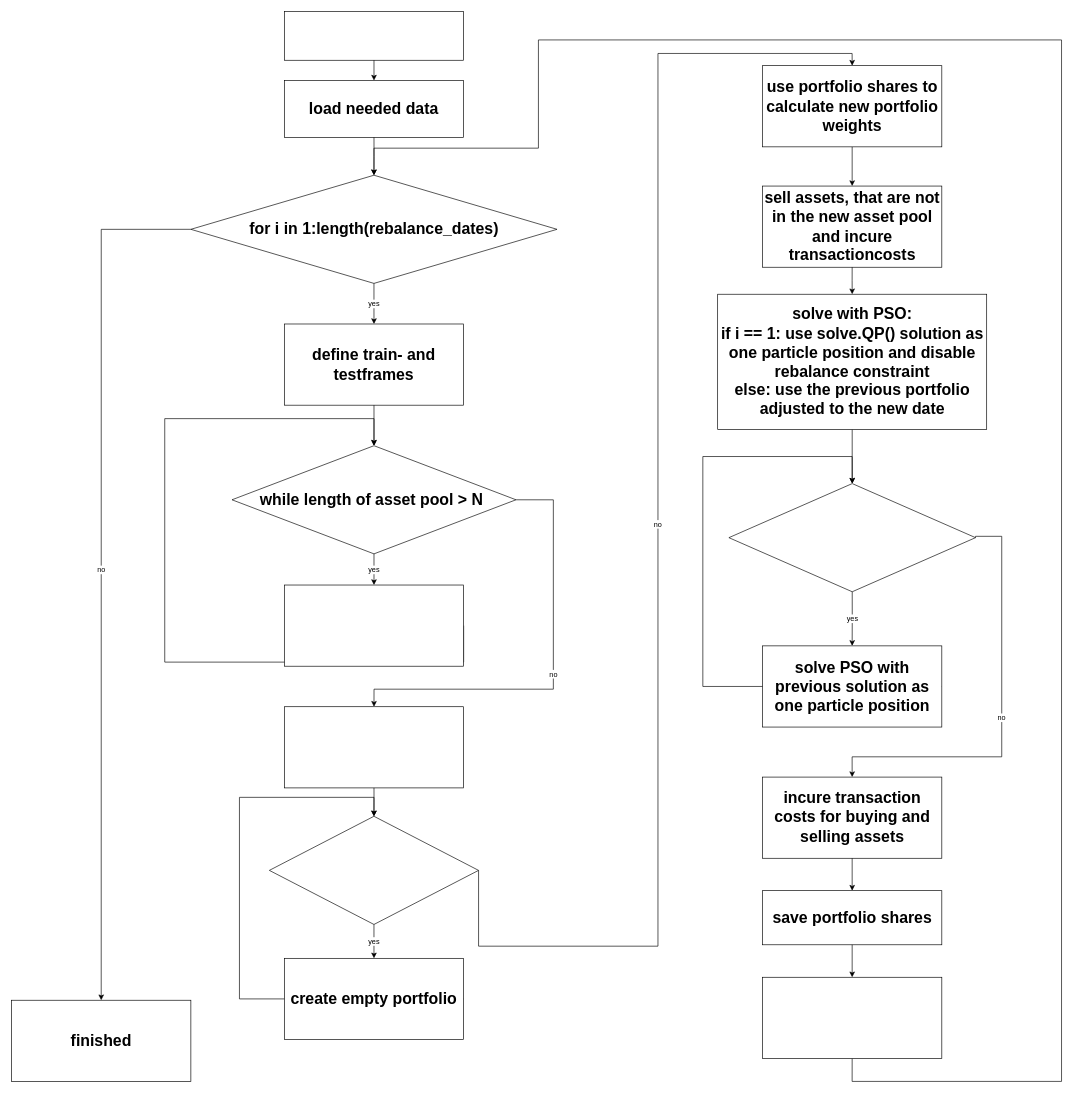
This 1078x1098 diagram has some shape labels left out. Here are the shapes that lost their labels. From the top down, the centre of each, then its label:
At point (374, 35): "Backtest".
At point (852, 537): "while PSO result has constraint breaks".
At point (374, 625): "use solve.QP() to discard assets with lowest weights".
At point (374, 747): "subset trainframe data and create modell matrices with remaining assets".
At point (374, 870): "if i == 1".
At point (852, 1017): "add performance of portfolio nav until next rebalance_date".
